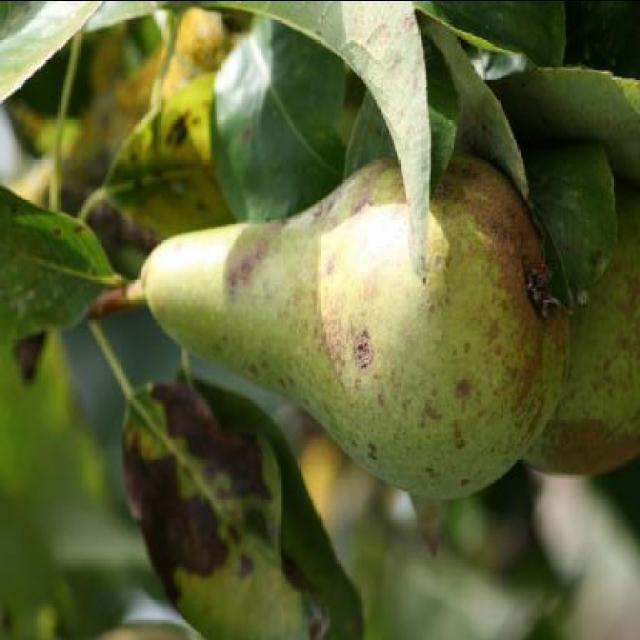Pear: (140, 154, 569, 497), (526, 174, 640, 476)
